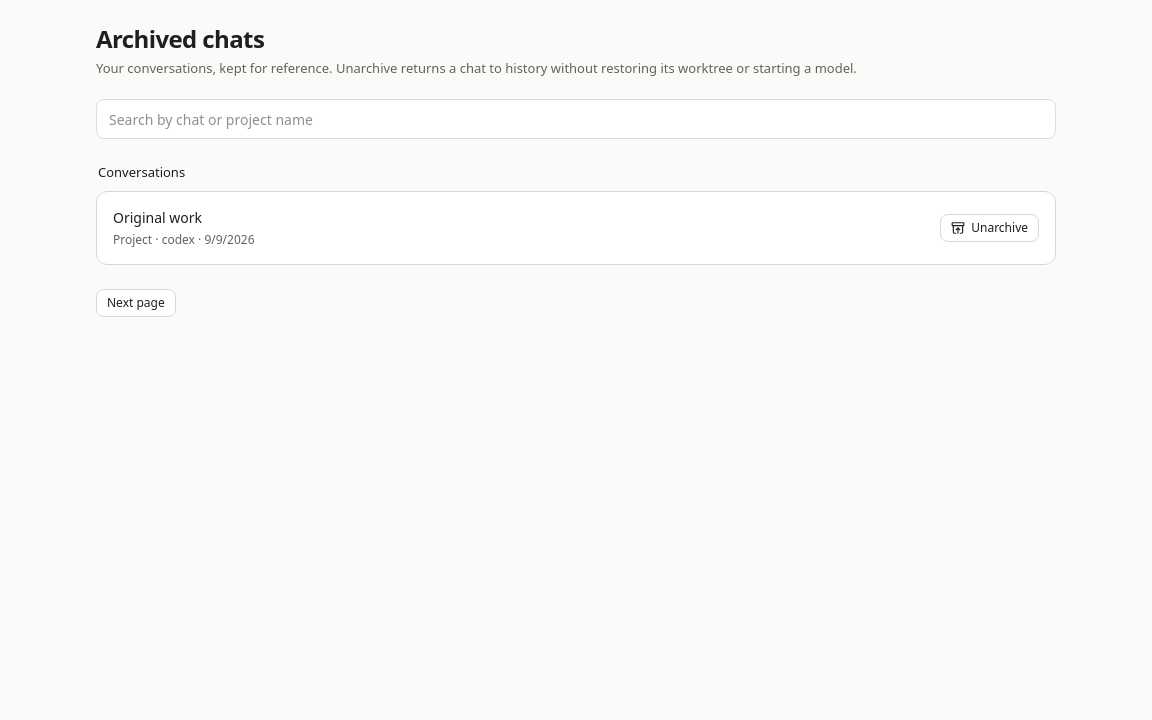
Scenario: reads content without starting a model and exposes pagination
Click the button "Original work Project · codex · 9/9/2026" at (158, 217), box [113,208,928,248]
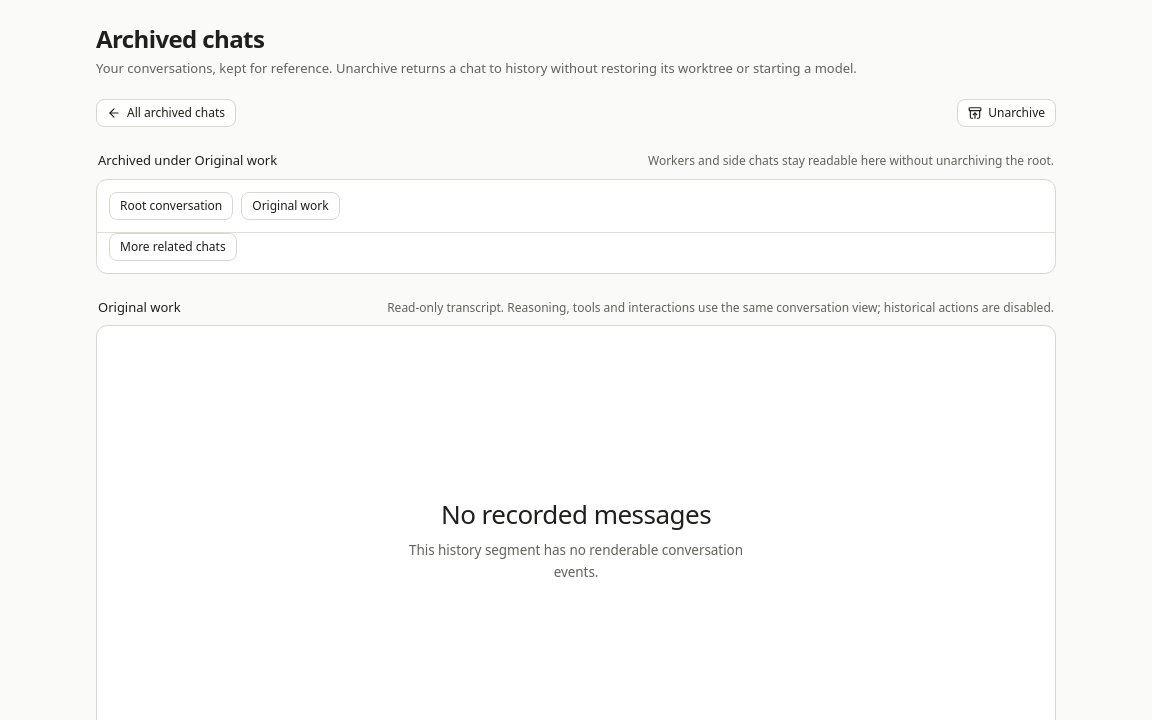
Expected: the text "Read-only transcript" is shown, [387,299,1054,316]
